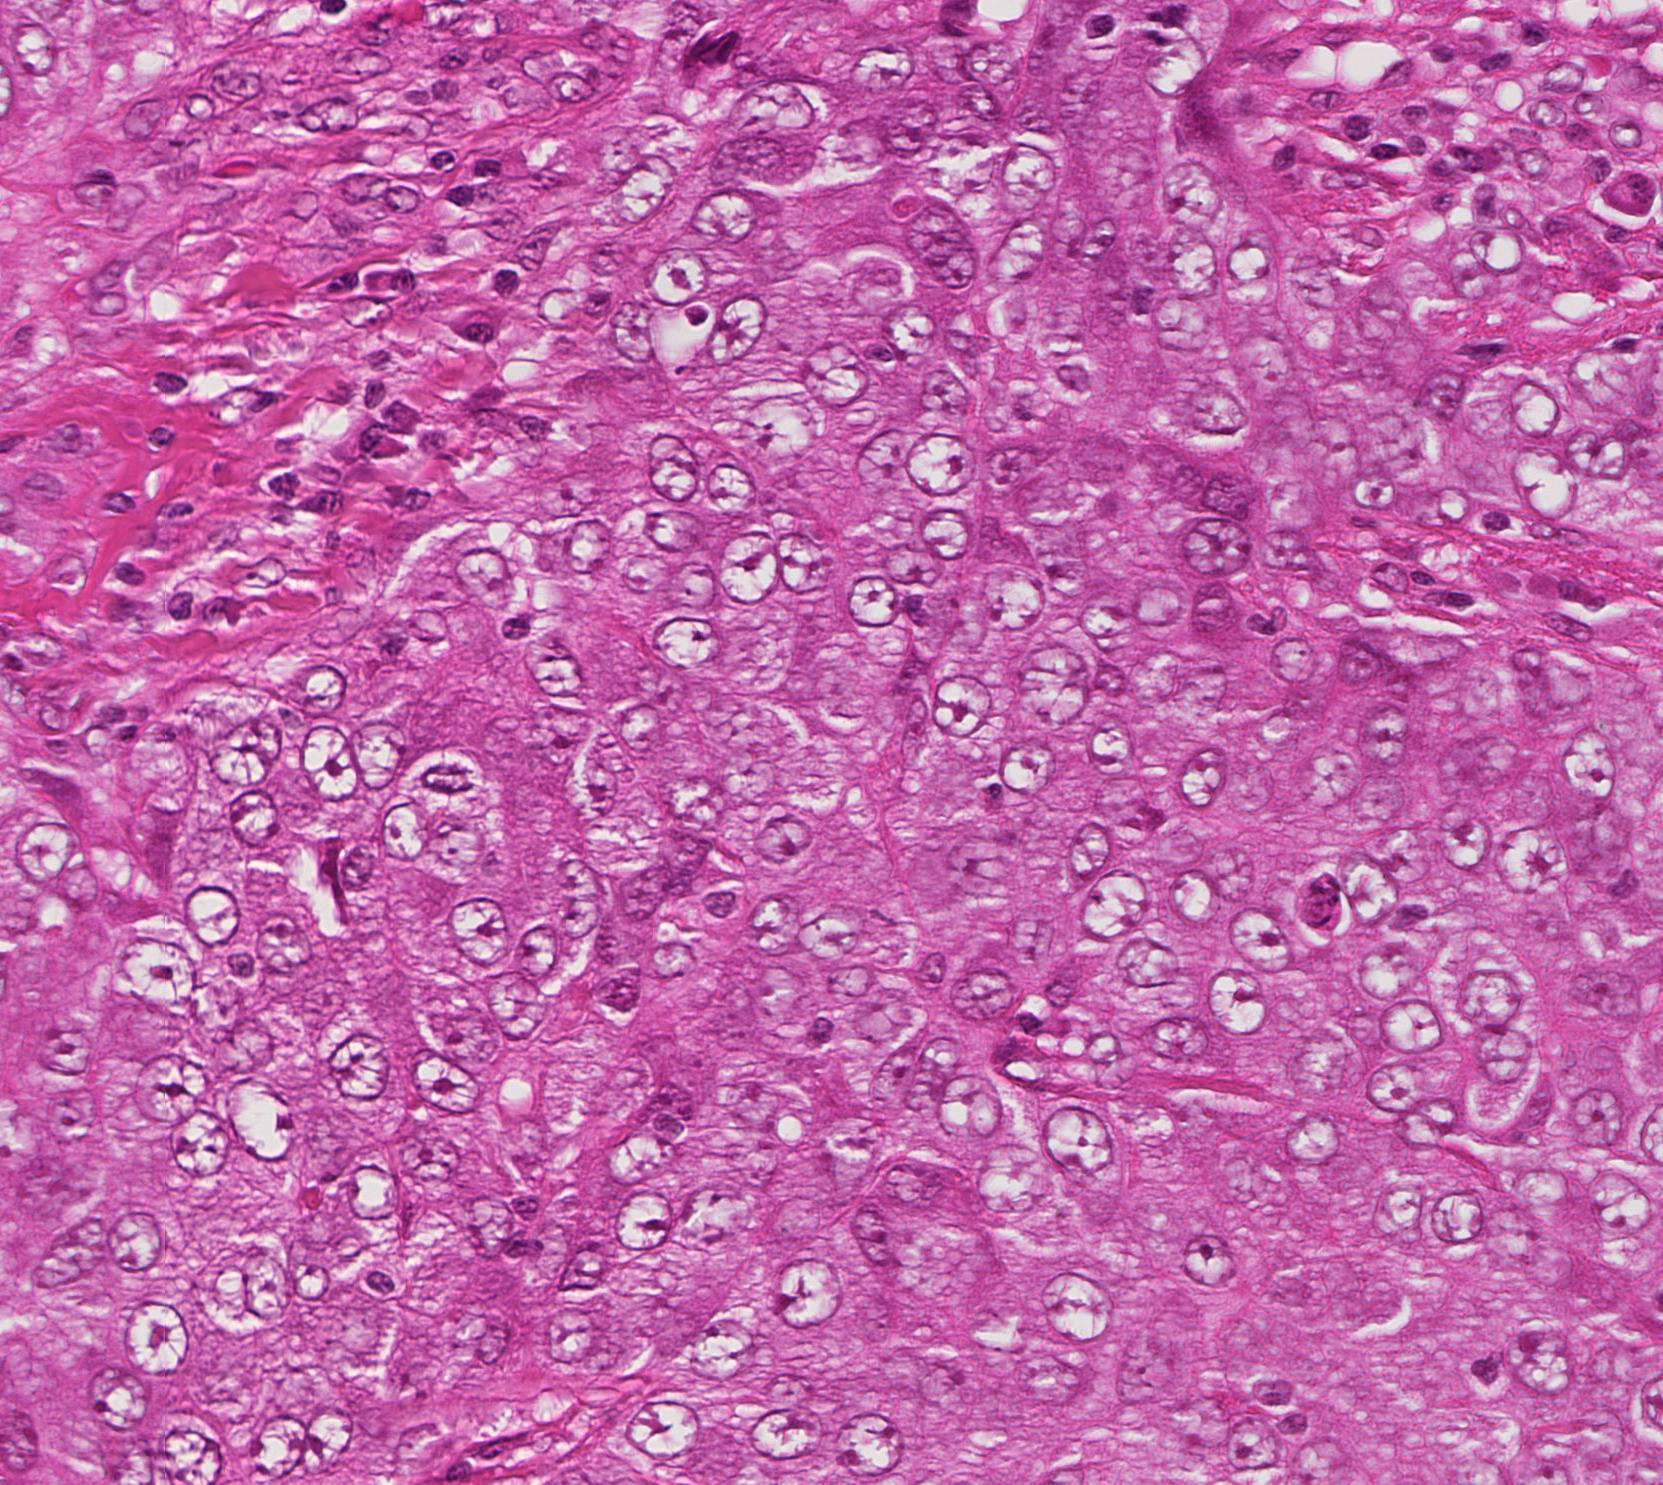mitosis: (1144, 0, 1204, 54)
